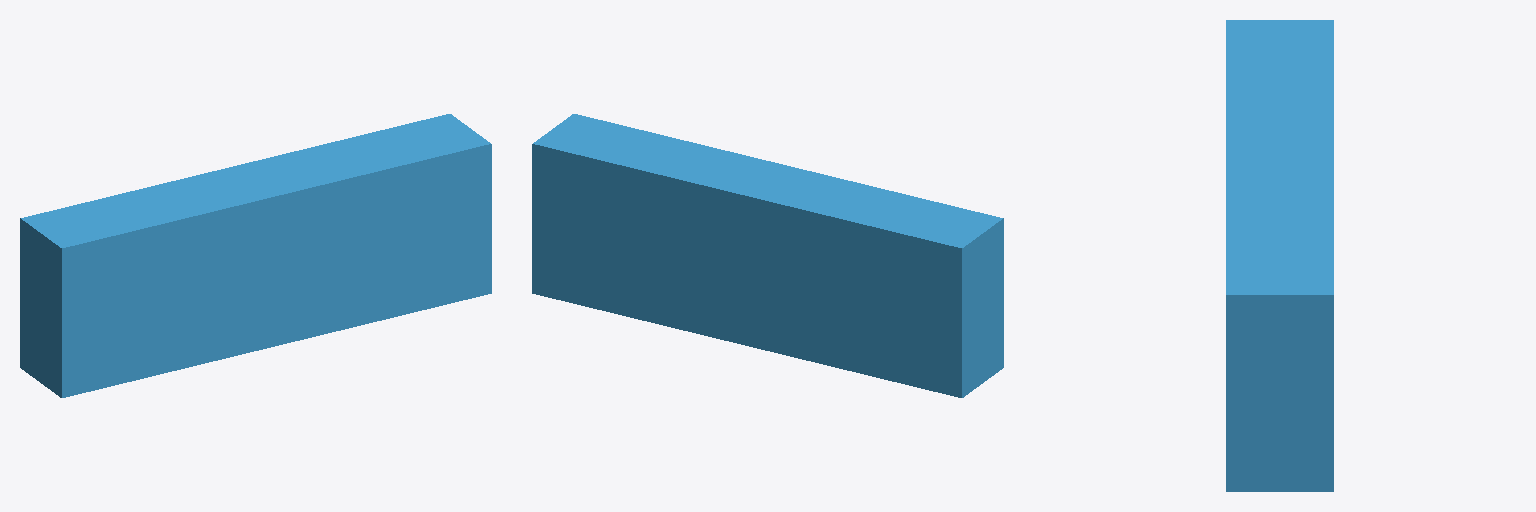
robot.urdf — multipleshapes:
<?xml version="1.0"?>
<robot name="multipleshapes">
  <link name="base_link">
    <collision>
      <geometry>
        <cylinder length="0.6" radius="0.2"/>
      </geometry>
    </collision>
  </link>

  <link name="right_leg">
    <visual>
      <geometry>
        <box size="0.6 0.1 0.2"/>
      </geometry>
    </visual>
  </link>

  <joint name="base_to_right_leg" type="fixed">
    <parent link="base_link"/>
    <child link="right_leg"/>
  </joint>

</robot>

--- Facts derived from the render (not from the file) ---
The picture shows the robot from 3 angles, left to right: view 1: azimuth 30°, elevation 25°; view 2: azimuth 150°, elevation 25°; view 3: azimuth 270°, elevation 25°; orthographic projection.
Model multipleshapes with 2 links and 1 joints (1 fixed), rooted at base_link, posed all joints at 0.
Links seen in each view (by area): view 1: right_leg; view 2: right_leg; view 3: right_leg.
Link boxes in pixels (bbox=[...]): right_leg: bbox=[20, 114, 491, 397]; right_leg: bbox=[532, 114, 1003, 397]; right_leg: bbox=[1226, 20, 1333, 491].
Bounding box of the posed robot: 0.6 × 0.1 × 0.2 m (x, y, z).
Geometry: primitives only (box / cylinder / sphere), no mesh files.